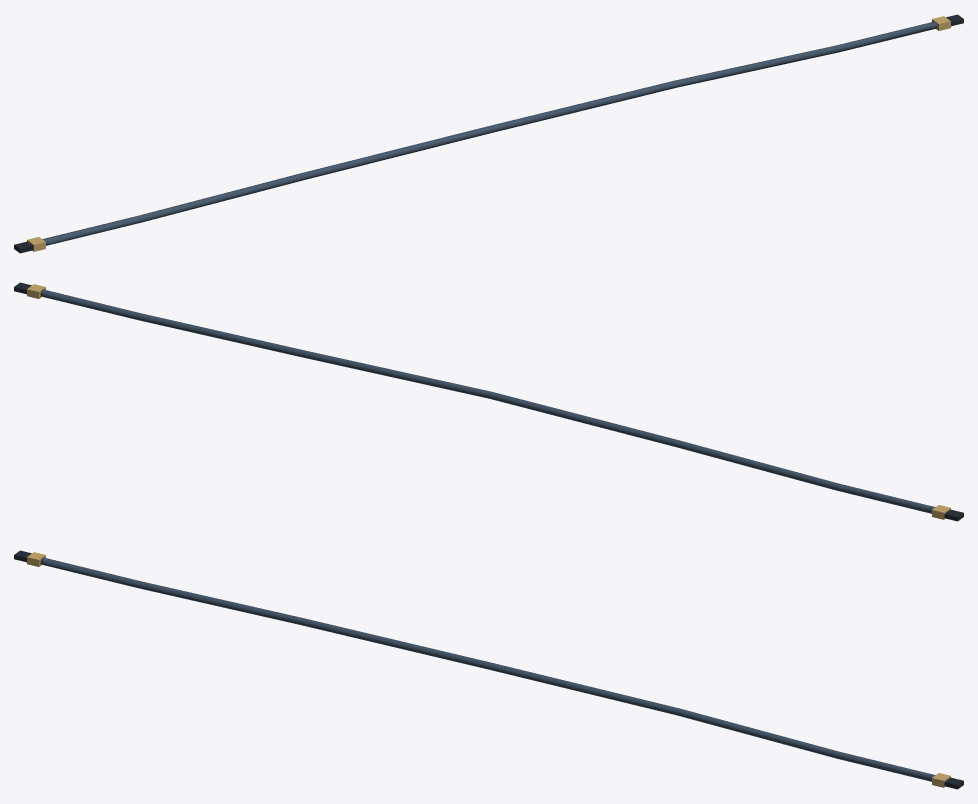
3 renders of one model, top to bottom at view 1: azimuth 30°, elevation 25°; view 2: azimuth 150°, elevation 25°; view 3: azimuth 330°, elevation 25°, orthographic.
Visible parts, largest first — view 1: single-sleeve-route; view 2: single-sleeve-route; view 3: single-sleeve-route.
Boxes of the visible parts, <box> form: single-sleeve-route: <box>46,22,933,245</box>; single-sleeve-route: <box>44,290,931,513</box>; single-sleeve-route: <box>44,558,931,781</box>.
Bounding box in the file's own units: 1.41 × 0.018 × 0.018.
